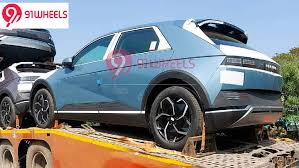Honda Ioniq: (26, 13, 289, 159)
